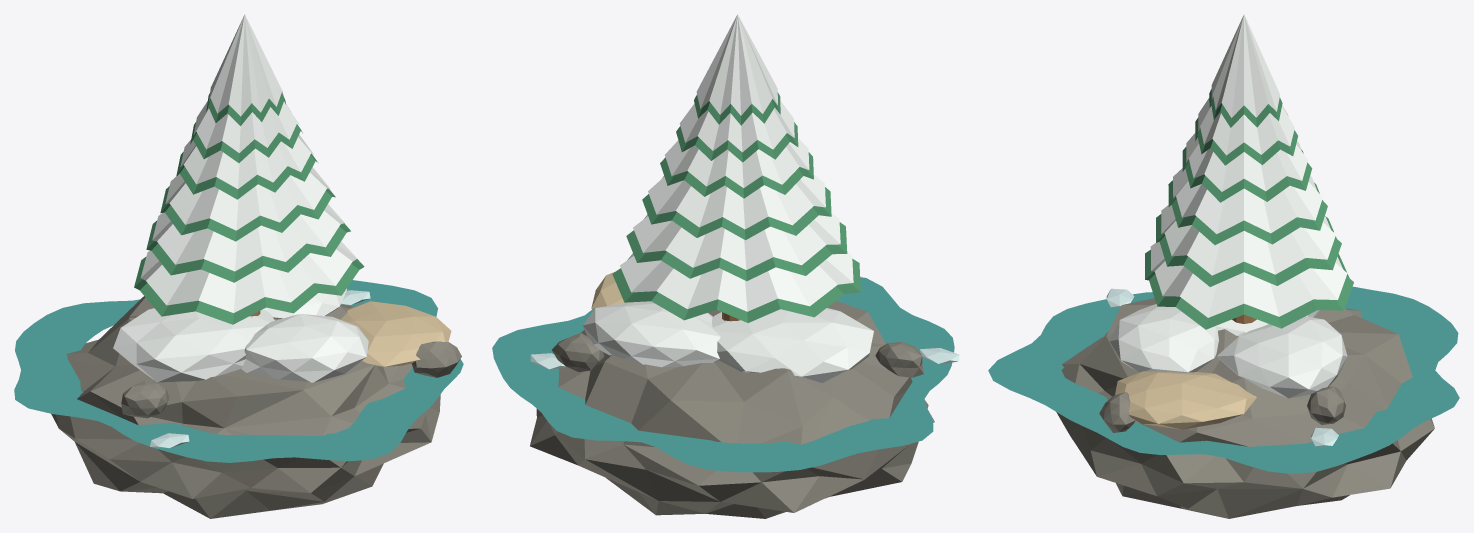
The model's file is diorama-third.glb.
3 views of the same model, side by side, from view 1: azimuth 30°, elevation 25°; view 2: azimuth 150°, elevation 25°; view 3: azimuth 270°, elevation 25° (orthographic).
Visible parts, largest first — view 1: Island | lumpy rock raft, Ocean | irregular shore skirt, Snow | rock drift, Snow | rock drift.002, Snow | branch mantle, Snow | branch mantle.001, Snow | branch mantle.002, Sand | small beach, Snow | branch mantle.005, Snow | branch mantle.003, Pine | drooping tier, Snow | branch mantle.004 (+8 smaller); view 2: Island | lumpy rock raft, Ocean | irregular shore skirt, Snow | rock drift, Snow | branch mantle, Snow | rock drift.001, Snow | branch mantle.001, Snow | branch mantle.002, Snow | branch mantle.005, Snow | branch mantle.003, Pine | drooping tier, Snow | branch mantle.004, Pine | drooping tier.001 (+7 smaller); view 3: Island | lumpy rock raft, Ocean | irregular shore skirt, Snow | rock drift.001, Snow | branch mantle, Sand | small beach, Snow | rock drift.002, Snow | branch mantle.001, Snow | branch mantle.002, Snow | branch mantle.005, Snow | branch mantle.003, Pine | drooping tier, Snow | branch mantle.004 (+8 smaller).
Part boxes in pixels (bbox=[...]): Island | lumpy rock raft: bbox=[51, 296, 440, 518]; Ocean | irregular shore skirt: bbox=[14, 280, 463, 462]; Snow | rock drift: bbox=[113, 308, 274, 382]; Snow | rock drift.002: bbox=[241, 314, 368, 382]; Snow | branch mantle: bbox=[140, 241, 357, 312]; Snow | branch mantle.001: bbox=[152, 204, 344, 271]; Snow | branch mantle.002: bbox=[165, 167, 329, 230]; Sand | small beach: bbox=[340, 301, 451, 366]; Snow | branch mantle.005: bbox=[208, 14, 283, 116]; Snow | branch mantle.003: bbox=[180, 134, 313, 188]; Pine | drooping tier: bbox=[134, 257, 364, 324]; Snow | branch mantle.004: bbox=[193, 101, 299, 152]; Island | lumpy rock raft: bbox=[530, 301, 934, 518]; Ocean | irregular shore skirt: bbox=[492, 277, 954, 472]; Snow | rock drift: bbox=[712, 308, 873, 383]; Snow | branch mantle: bbox=[620, 252, 853, 311]; Snow | rock drift.001: bbox=[582, 301, 720, 367]; Snow | branch mantle.001: bbox=[633, 213, 840, 269]; Snow | branch mantle.002: bbox=[648, 174, 825, 229]; Snow | branch mantle.005: bbox=[696, 14, 777, 115]; Snow | branch mantle.003: bbox=[665, 138, 809, 187]; Pine | drooping tier: bbox=[612, 253, 860, 322]; Snow | branch mantle.004: bbox=[679, 101, 794, 152]; Pine | drooping tier.001: bbox=[626, 222, 847, 280]; Island | lumpy rock raft: bbox=[1056, 298, 1434, 518]; Ocean | irregular shore skirt: bbox=[988, 286, 1459, 474]; Snow | rock drift.001: bbox=[1217, 316, 1347, 398]; Snow | branch mantle: bbox=[1150, 241, 1347, 317]; Sand | small beach: bbox=[1115, 371, 1256, 429]; Snow | rock drift.002: bbox=[1109, 304, 1218, 372]; Snow | branch mantle.001: bbox=[1161, 205, 1335, 275]; Snow | branch mantle.002: bbox=[1173, 168, 1322, 233]; Snow | branch mantle.005: bbox=[1211, 14, 1279, 117]; Snow | branch mantle.003: bbox=[1186, 133, 1307, 191]; Pine | drooping tier: bbox=[1145, 249, 1353, 329]; Snow | branch mantle.004: bbox=[1198, 98, 1294, 155].
Bounding box in the file's own units: 0.2731 × 0.2944 × 0.2651.
